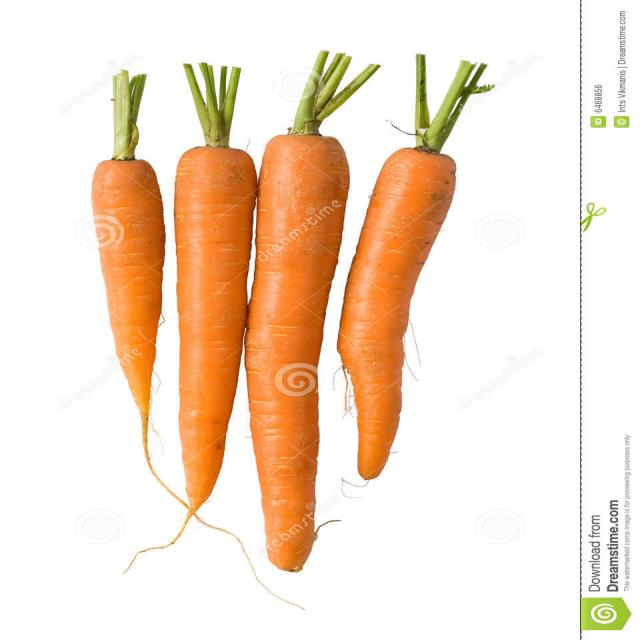Carrot: (347, 51, 492, 473), (256, 52, 354, 566), (169, 62, 253, 510), (72, 63, 165, 420)
